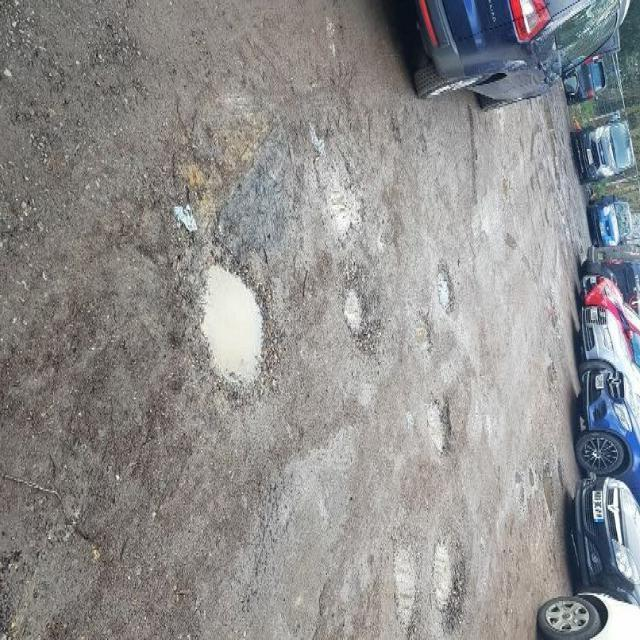Pothole: (198, 242, 276, 398), (338, 255, 382, 355), (427, 524, 469, 625), (388, 525, 424, 639), (426, 385, 456, 452), (436, 258, 456, 313)
